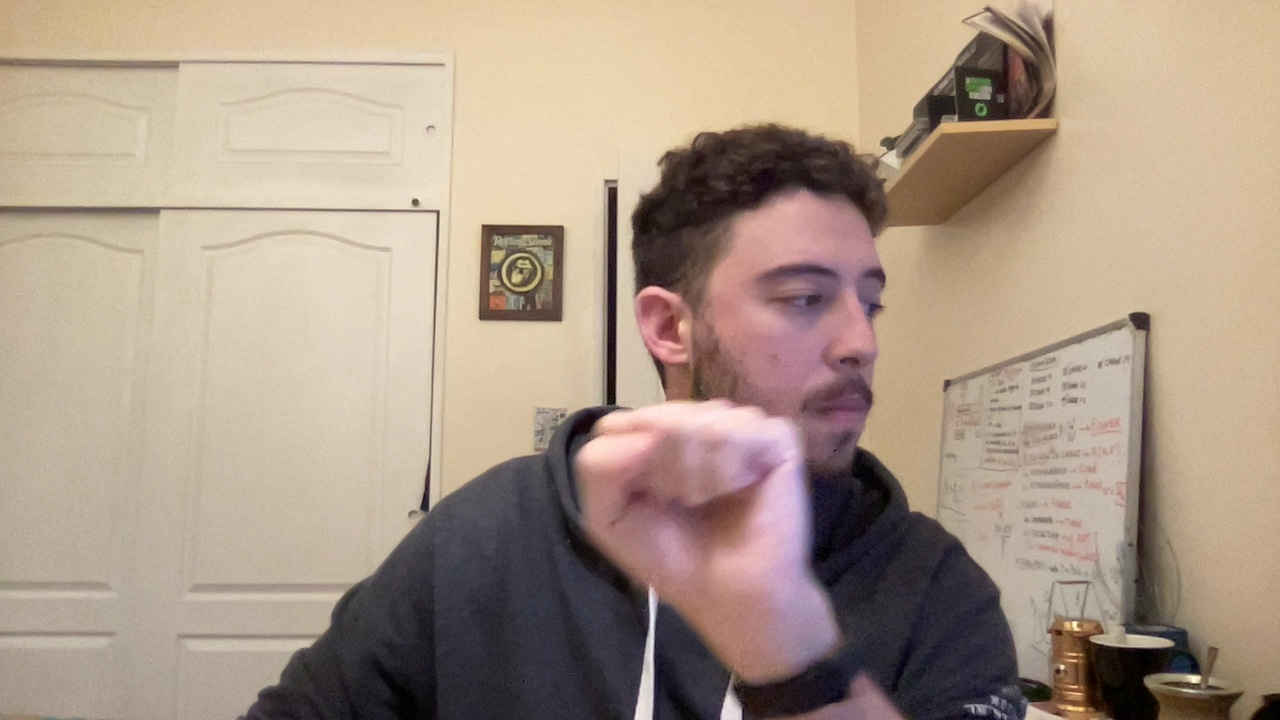cerrado: (554, 386, 836, 624)
